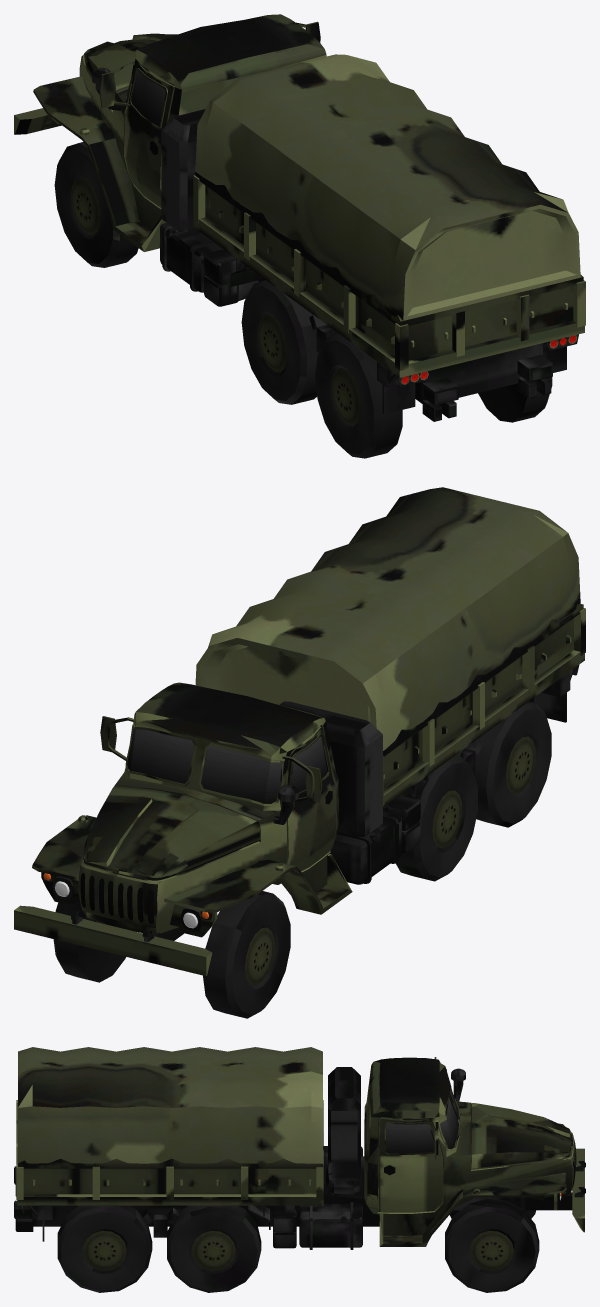
Rendered from ural.obj.
3 views of the same model, one above another, from view 1: azimuth 30°, elevation 25°; view 2: azimuth 150°, elevation 25°; view 3: azimuth 270°, elevation 25° (orthographic). The views are drawn at different scales.
Parts seen in each view (by area): view 1: mesh-0_mesh-0-geometry-model; view 2: mesh-0_mesh-0-geometry-model; view 3: mesh-0_mesh-0-geometry-model.
Part boxes in pixels (left/top/right/bottom): mesh-0_mesh-0-geometry-model: left=14, top=14, right=585, bottom=458; mesh-0_mesh-0-geometry-model: left=14, top=487, right=585, bottom=1018; mesh-0_mesh-0-geometry-model: left=14, top=1047, right=585, bottom=1292.
Bounding box in the file's own units: 2.67 × 3.06 × 8.08.
Materials: 1 (1 with a texture image).
